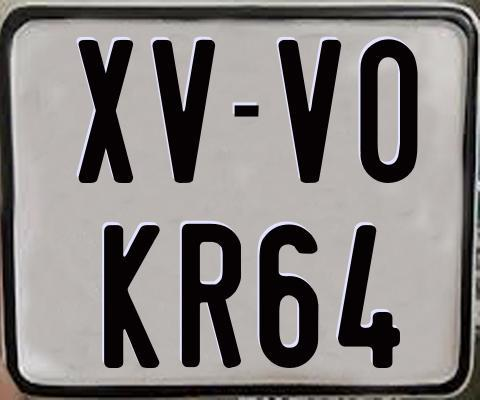0: (360, 38, 422, 182)
4: (337, 223, 405, 368)
6: (257, 224, 323, 374)
K: (101, 224, 163, 369)
R: (180, 223, 239, 370)
V: (151, 37, 216, 180), (275, 40, 339, 183)
X: (76, 40, 131, 188)
